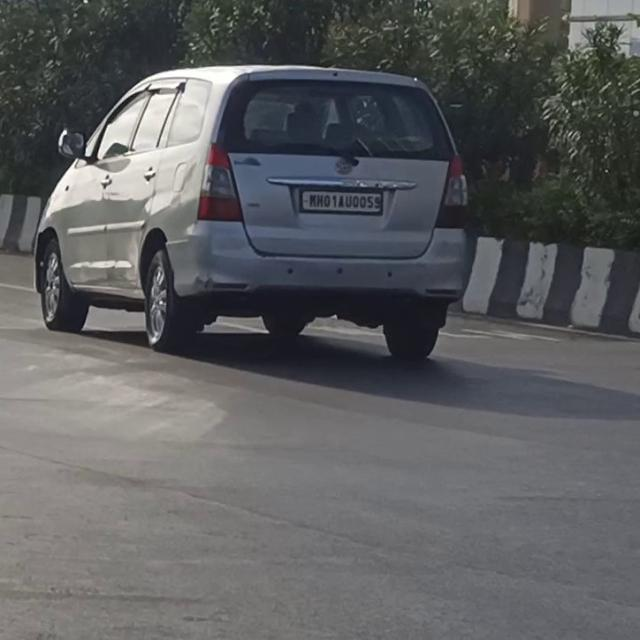number_plate: (305, 190, 389, 217)
